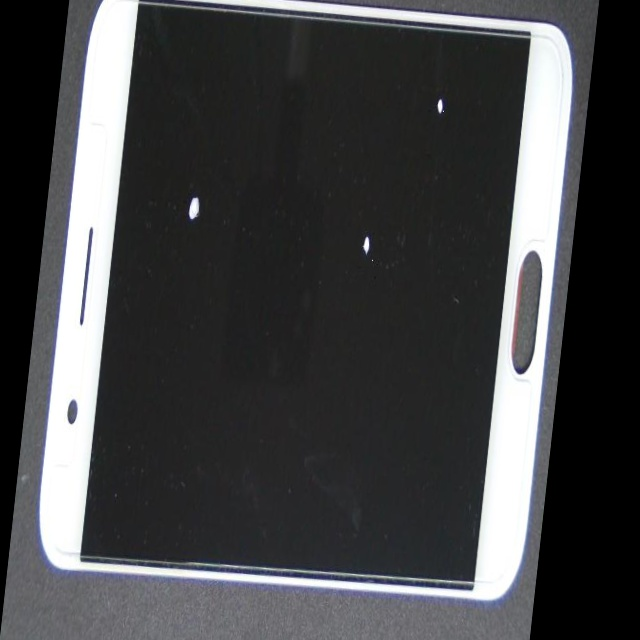stain: (178, 26, 533, 422), (226, 0, 597, 238), (78, 50, 281, 415)
